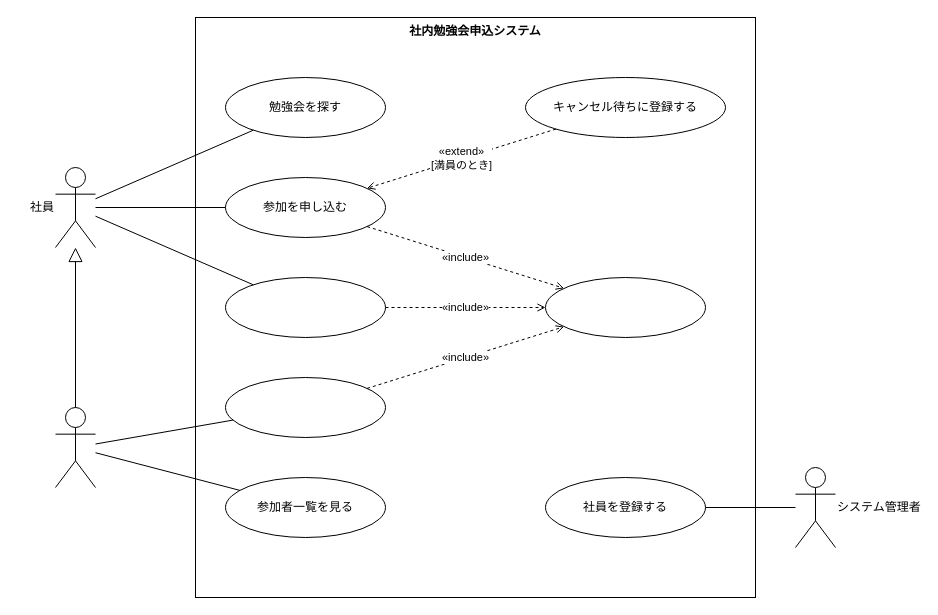
Image size: 938x615. Some labels were removed from this diagram. Each missing label, with the centre of its shape:
ログインする: (625,307)
主催者: (75,447)
勉強会を登録する: (305,407)
申込を取り消す: (305,307)
